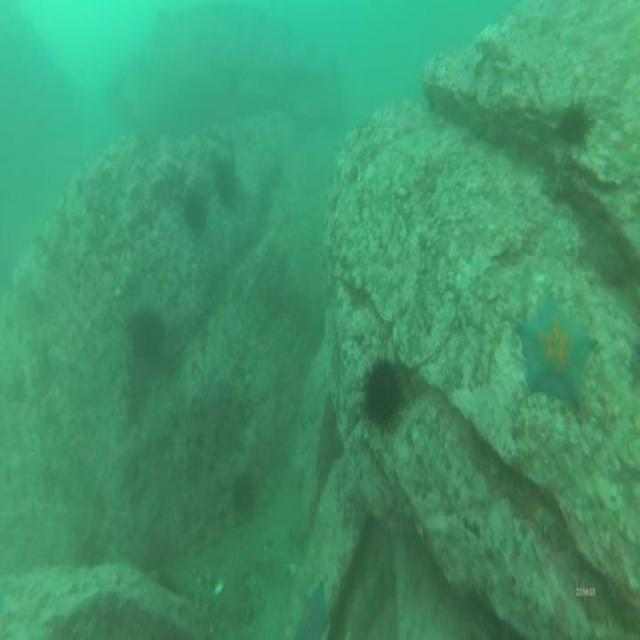echinus: (362, 364, 403, 426), (132, 305, 164, 359), (212, 157, 240, 210), (562, 101, 586, 149), (232, 476, 255, 514), (185, 198, 208, 232)
starfish: (520, 294, 595, 409), (298, 583, 327, 640)
